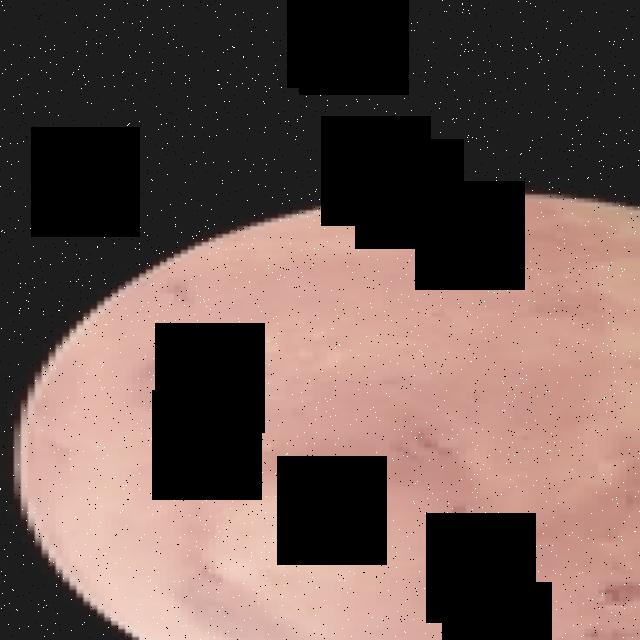Mars: (14, 190, 640, 640)
